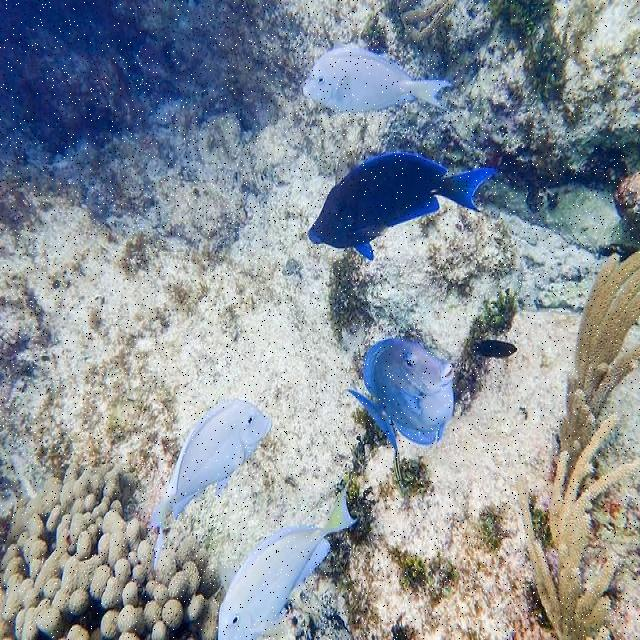fish: (215, 484, 360, 638), (308, 149, 497, 262), (151, 398, 272, 531), (342, 340, 455, 448), (303, 46, 454, 115)
reefs: (517, 245, 639, 587), (1, 464, 219, 639)
